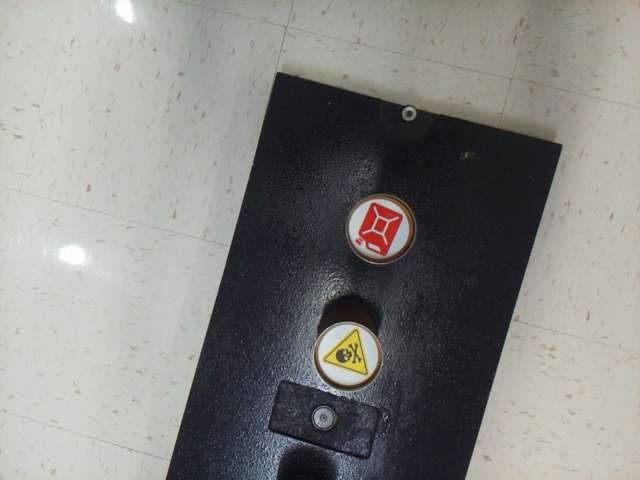gasoline: (350, 201, 409, 259)
toxic_fluid: (317, 326, 378, 384)
